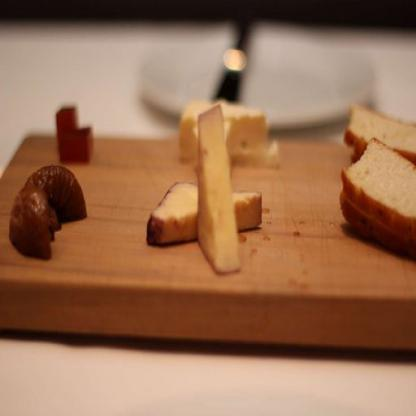bread: (340, 136, 416, 252), (339, 105, 415, 177)
